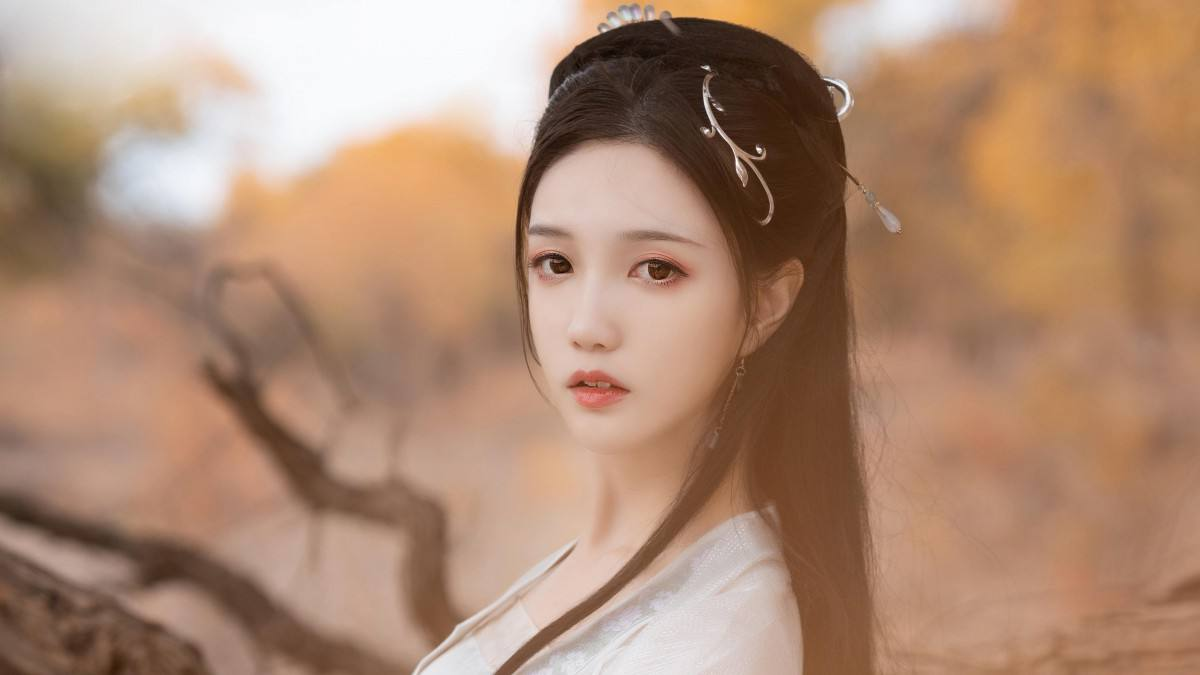person: (458, 15, 895, 654)
